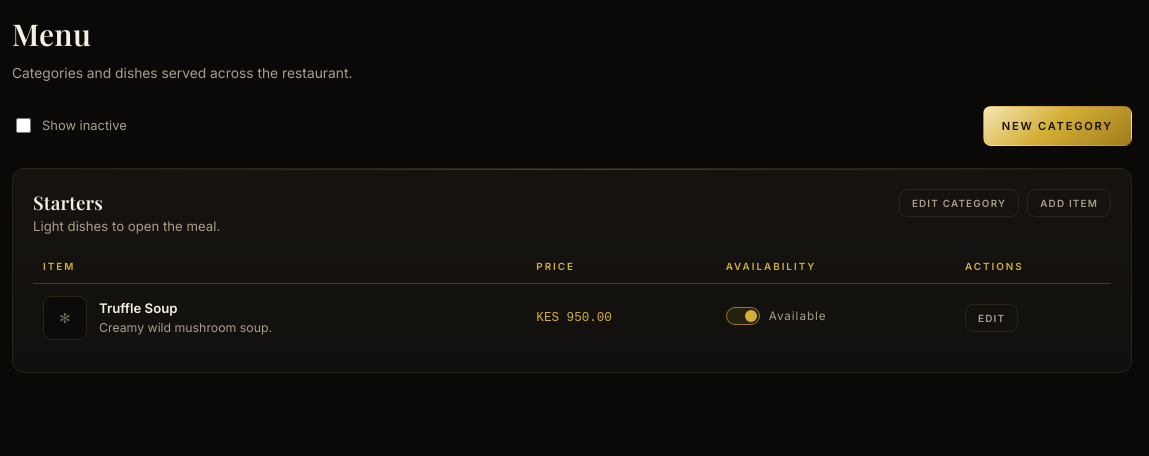
Test: availability toggle › reports a toggle failure without losing the table
What coordinates should you click on to do the following:
click the switch
I would click on:
 (776, 316)
Its box is [726,307,826,325].
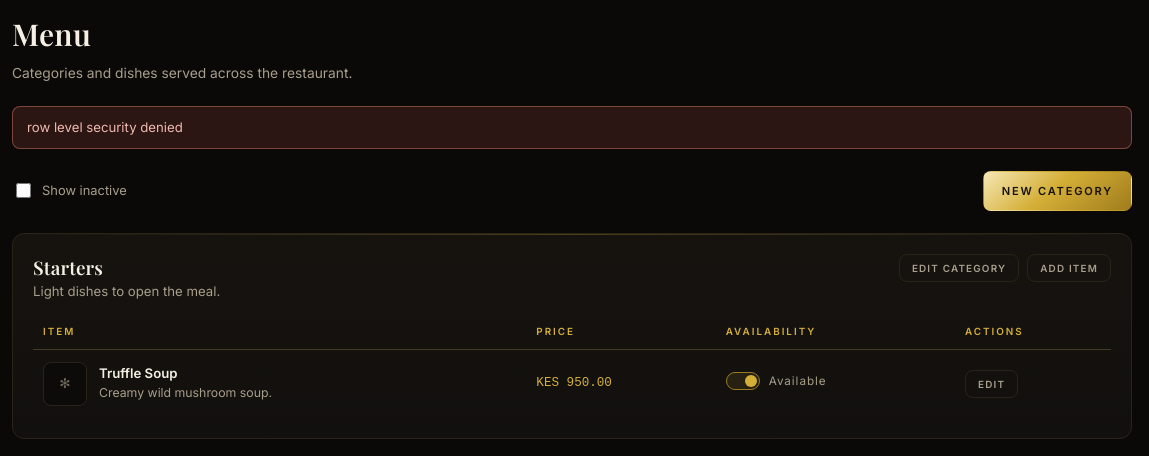
Check: the text "Truffle Soup" is shown, box [99,366,178,382]
Check: the text "row level security denied" is shown, box [12,106,1132,149]
